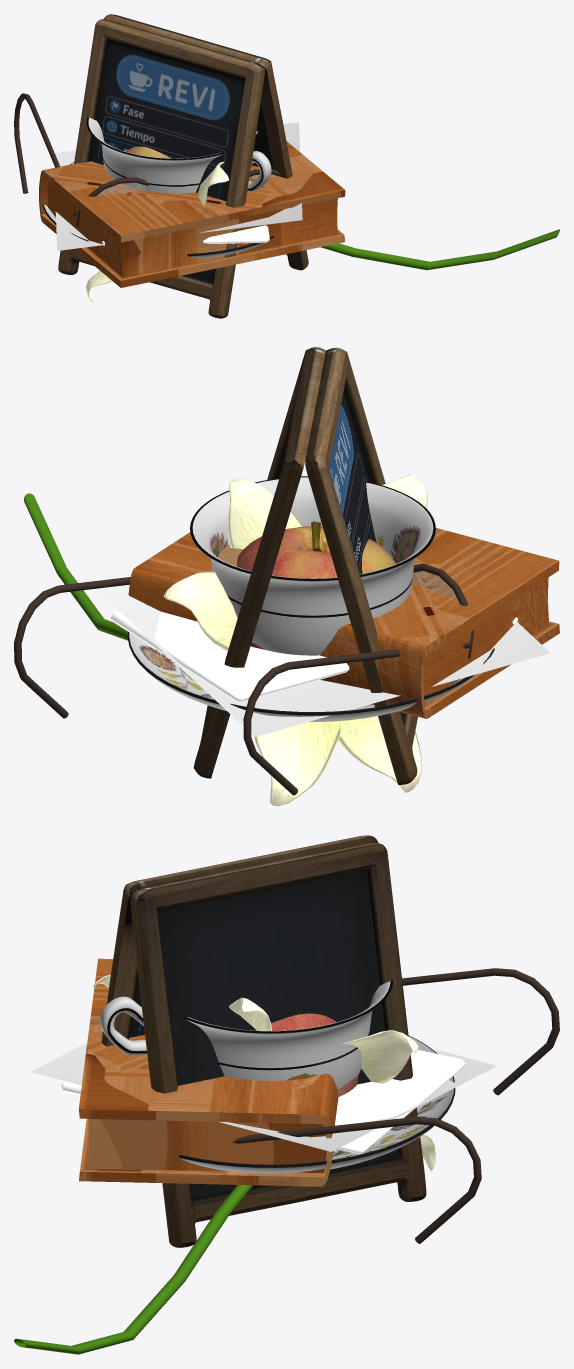
Rendered from pizarrab.glb.
3 views of the same model, one above another, from view 1: azimuth 30°, elevation 25°; view 2: azimuth 150°, elevation 25°; view 3: azimuth 270°, elevation 25° (orthographic). The views are drawn at different scales.
Visible parts, largest first — view 1: Plane001, Object_4, Line003_Saucer_1_0, Cylinder.003_0, Object_2, Object_6, ChamferBox001; view 2: Object_4, Plane001, Line003_Saucer_1_0, Cylinder.003_0, Object_2, ChamferBox001, Object_6, Object_2.001; view 3: Plane001, Object_4, Line003_Saucer_1_0, Cylinder.003_0, ChamferBox001, Object_6, Object_2, Object_2.001.
Part boxes in pixels (bbox=[...]): Plane001: bbox=[58, 14, 308, 318]; Object_4: bbox=[39, 141, 345, 287]; Line003_Saucer_1_0: bbox=[42, 117, 274, 257]; Cylinder.003_0: bbox=[86, 161, 559, 302]; Object_2: bbox=[54, 122, 302, 250]; Object_6: bbox=[14, 93, 280, 227]; ChamferBox001: bbox=[102, 225, 269, 245]; Object_4: bbox=[128, 528, 559, 718]; Plane001: bbox=[193, 347, 417, 784]; Line003_Saucer_1_0: bbox=[127, 476, 494, 721]; Cylinder.003_0: bbox=[24, 474, 427, 806]; Object_2: bbox=[79, 549, 550, 736]; ChamferBox001: bbox=[111, 611, 517, 702]; Object_6: bbox=[14, 563, 473, 795]; Object_2.001: bbox=[237, 521, 395, 649]; Plane001: bbox=[101, 835, 426, 1247]; Object_4: bbox=[78, 958, 338, 1186]; Line003_Saucer_1_0: bbox=[100, 980, 455, 1173]; Cylinder.003_0: bbox=[14, 974, 436, 1354]; ChamferBox001: bbox=[61, 1050, 464, 1154]; Object_6: bbox=[233, 968, 559, 1243]; Object_2: bbox=[31, 1042, 496, 1151]; Object_2.001: bbox=[271, 1013, 358, 1096].
Size of the model in its own units: 0.5769 by 0.3168 by 0.4449.
Materials: 22 (11 with a texture image).
